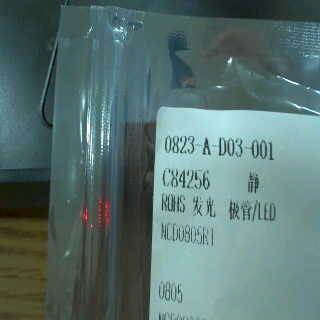LED: (184, 192, 283, 227)
